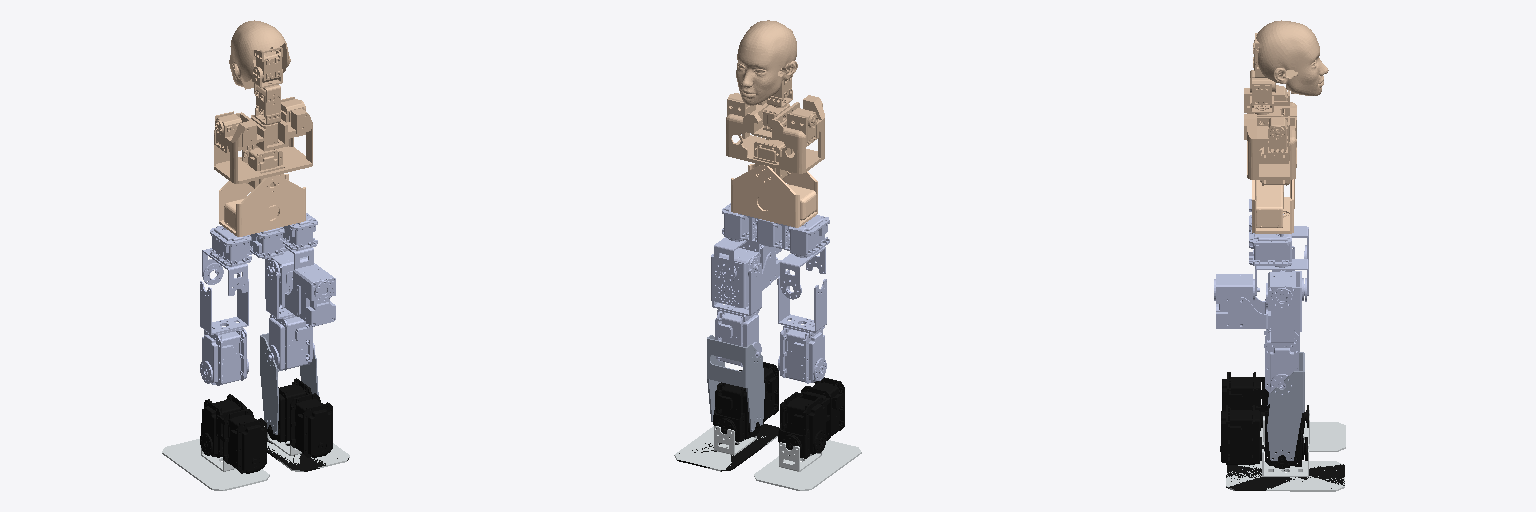
The robot description file, URDF, robot "ros18":
<?xml version="1.0" encoding="utf-8"?>
<!-- This URDF was automatically created by SolidWorks to URDF Exporter! Originally created by [author] ([email redacted]) 
     Commit Version: 1.6.0-4-g7f85cfe  Build Version: 1.6.7995.38578
     For more information, please see http://wiki.ros.org/sw_urdf_exporter -->
<robot
  name="ros18">
  <link
    name="base_link">
    <inertial>
      <origin
        xyz="0.00012411 -0.011342 0.43473"
        rpy="0 0 0" />
      <mass
        value="0.22153" />
      <inertia
        ixx="0.0001019"
        ixy="6.9163E-08"
        ixz="-5.1407E-08"
        iyy="0.00017338"
        iyz="8.0451E-06"
        izz="0.00015892" />
    </inertial>
    <visual>
      <origin
        xyz="0 0 0"
        rpy="0 0 0" />
      <geometry>
        <mesh
          filename="package://ros18/meshes/base_link.STL" />
      </geometry>
      <material
        name="">
        <color
          rgba="0.88627 0.77647 0.67843 1" />
      </material>
    </visual>
    <collision>
      <origin
        xyz="0 0 0"
        rpy="0 0 0" />
      <geometry>
        <mesh
          filename="package://ros18/meshes/base_link.STL" />
      </geometry>
    </collision>
  </link>
  <link
    name="waist_link">
    <inertial>
      <origin
        xyz="0.0402135117595246 -0.00227355475099582 0.0289825682297939"
        rpy="0 0 0" />
      <mass
        value="0.253025215067274" />
      <inertia
        ixx="0.000207131359721091"
        ixy="1.33833804574094E-10"
        ixz="-1.37231708481392E-07"
        iyy="6.88385602261252E-05"
        iyz="-1.27099608046946E-07"
        izz="0.000198692839118258" />
    </inertial>
    <visual>
      <origin
        xyz="0 0 0"
        rpy="0 0 0" />
      <geometry>
        <mesh
          filename="package://ros18/meshes/waist_link.STL" />
      </geometry>
      <material
        name="">
        <color
          rgba="0.996078431372549 0.870588235294118 0.76078431372549 1" />
      </material>
    </visual>
    <collision>
      <origin
        xyz="0 0 0"
        rpy="0 0 0" />
      <geometry>
        <mesh
          filename="package://ros18/meshes/waist_link.STL" />
      </geometry>
    </collision>
  </link>
  <joint
    name="waist_joint_1"
    type="revolute">
    <origin
      xyz="3.0614E-05 0.016897 0.37241"
      rpy="1.5708 1.5708 0" />
    <parent
      link="base_link" />
    <child
      link="waist_link" />
    <axis
      xyz="0 0.00097878 -1" />
    <limit
      lower="-1.308996938"
      upper="0.55851"
      effort="3"
      velocity="3" />
  </joint>
  <link
    name="hip_link">
    <inertial>
      <origin
        xyz="0.0110096301285472 1.07762347962004E-05 0.0226635098061163"
        rpy="0 0 0" />
      <mass
        value="0.138823597375586" />
      <inertia
        ixx="2.38836273995558E-05"
        ixy="-1.41623475234827E-08"
        ixz="1.82744993681484E-07"
        iyy="3.83538977071312E-05"
        iyz="1.80110311578197E-10"
        izz="3.15172006085393E-05" />
    </inertial>
    <visual>
      <origin
        xyz="0 0 0"
        rpy="0 0 0" />
      <geometry>
        <mesh
          filename="package://ros18/meshes/hip_link.STL" />
      </geometry>
      <material
        name="">
        <color
          rgba="0.792156862745098 0.819607843137255 0.933333333333333 1" />
      </material>
    </visual>
    <collision>
      <origin
        xyz="0 0 0"
        rpy="0 0 0" />
      <geometry>
        <mesh
          filename="package://ros18/meshes/hip_link.STL" />
      </geometry>
    </collision>
  </link>
  <joint
    name="hip_joint_2"
    type="revolute">
    <origin
      xyz="0.05515 -1.4533E-05 0.01485"
      rpy="-1.5703 -1.5708 -1.5713" />
    <parent
      link="waist_link" />
    <child
      link="hip_link" />
    <axis
      xyz="0 0 1" />
    <limit
      lower="-1.308996938"
      upper="0.5236"
      effort="3"
      velocity="3" />
  </joint>
  <link
    name="hip_right_link">
    <inertial>
      <origin
        xyz="-0.00422614947955779 1.30363239334019E-05 0.0101024474395421"
        rpy="0 0 0" />
      <mass
        value="0.00819925239367431" />
      <inertia
        ixx="1.32821149148133E-06"
        ixy="-2.10863542164035E-14"
        ixz="-1.29538092740862E-11"
        iyy="4.79909587455136E-06"
        iyz="3.91751811825621E-12"
        izz="4.48167530300692E-06" />
    </inertial>
    <visual>
      <origin
        xyz="0 0 0"
        rpy="0 0 0" />
      <geometry>
        <mesh
          filename="package://ros18/meshes/hip_right_link.STL" />
      </geometry>
      <material
        name="">
        <color
          rgba="0.792156862745098 0.819607843137255 0.933333333333333 1" />
      </material>
    </visual>
    <collision>
      <origin
        xyz="0 0 0"
        rpy="0 0 0" />
      <geometry>
        <mesh
          filename="package://ros18/meshes/hip_right_link.STL" />
      </geometry>
    </collision>
  </link>
  <joint
    name="hip_right_joint_4"
    type="revolute">
    <origin
      xyz="4.469E-05 -0.045659 0.0452"
      rpy="0 0 0.00097878" />
    <parent
      link="hip_link" />
    <child
      link="hip_right_link" />
    <axis
      xyz="0 0 1" />
    <limit
      lower="-1.151917305"
      upper="0.34907"
      effort="3"
      velocity="3" />
  </joint>
  <link
    name="hip2_right_link">
    <inertial>
      <origin
        xyz="-0.0152802051528607 0.000300443248466842 -0.0023114774439314"
        rpy="0 0 0" />
      <mass
        value="0.190491121315995" />
      <inertia
        ixx="4.96584513485555E-05"
        ixy="-1.61906609668238E-07"
        ixz="1.96075652820577E-07"
        iyy="7.60017328225244E-05"
        iyz="4.25333788432787E-09"
        izz="8.03503917179731E-05" />
    </inertial>
    <visual>
      <origin
        xyz="0 0 0"
        rpy="0 0 0" />
      <geometry>
        <mesh
          filename="package://ros18/meshes/hip2_right_link.STL" />
      </geometry>
      <material
        name="">
        <color
          rgba="0.792156862745098 0.819607843137255 0.933333333333333 1" />
      </material>
    </visual>
    <collision>
      <origin
        xyz="0 0 0"
        rpy="0 0 0" />
      <geometry>
        <mesh
          filename="package://ros18/meshes/hip2_right_link.STL" />
      </geometry>
    </collision>
  </link>
  <joint
    name="hip2_right_joint_8"
    type="revolute">
    <origin
      xyz="0.025902 1.4356E-05 0.0319"
      rpy="0.00097878 1.5708 0" />
    <parent
      link="hip_right_link" />
    <child
      link="hip2_right_link" />
    <axis
      xyz="0 0.00097878 1" />
    <limit
      lower="-0.86394"
      upper="1.4312"
      effort="10"
      velocity="3" />
  </joint>
  <link
    name="knee_right_link">
    <inertial>
      <origin
        xyz="-0.0913090349122436 2.80103607659399E-05 0.0296791212758651"
        rpy="0 0 0" />
      <mass
        value="0.0990788181729648" />
      <inertia
        ixx="2.89113990326741E-05"
        ixy="7.60262641748883E-09"
        ixz="-1.06282733195236E-06"
        iyy="4.93830312858525E-05"
        iyz="2.31023931628491E-09"
        izz="3.6564094559343E-05" />
    </inertial>
    <visual>
      <origin
        xyz="0 0 0"
        rpy="0 0 0" />
      <geometry>
        <mesh
          filename="package://ros18/meshes/knee_right_link.STL" />
      </geometry>
      <material
        name="">
        <color
          rgba="0.792156862745098 0.819607843137255 0.933333333333333 1" />
      </material>
    </visual>
    <collision>
      <origin
        xyz="0 0 0"
        rpy="0 0 0" />
      <geometry>
        <mesh
          filename="package://ros18/meshes/knee_right_link.STL" />
      </geometry>
    </collision>
  </link>
  <joint
    name="knee_right_joint_6"
    type="revolute">
    <origin
      xyz="0 0.029774 -0.026449"
      rpy="1.5698 0 0" />
    <parent
      link="hip2_right_link" />
    <child
      link="knee_right_link" />
    <axis
      xyz="0 0 1" />
    <limit
      lower="-0.40143"
      upper="0.29671"
      effort="10"
      velocity="3" />
  </joint>
  <link
    name="knee2_right_link">
    <inertial>
      <origin
        xyz="0.00804899987914626 -0.0336820805195894 0.0600831335075141"
        rpy="0 0 0" />
      <mass
        value="0.0193582268613659" />
      <inertia
        ixx="3.00376034908173E-05"
        ixy="-4.16144017849549E-06"
        ixz="-4.46081960737597E-20"
        iyy="1.54337706515249E-05"
        iyz="-1.37972098057233E-19"
        izz="2.14370365193726E-05" />
    </inertial>
    <visual>
      <origin
        xyz="0 0 0"
        rpy="0 0 0" />
      <geometry>
        <mesh
          filename="package://ros18/meshes/knee2_right_link.STL" />
      </geometry>
      <material
        name="">
        <color
          rgba="0.666666666666667 0.698039215686274 0.768627450980392 1" />
      </material>
    </visual>
    <collision>
      <origin
        xyz="0 0 0"
        rpy="0 0 0" />
      <geometry>
        <mesh
          filename="package://ros18/meshes/knee2_right_link.STL" />
      </geometry>
    </collision>
  </link>
  <joint
    name="knee2_right_joint_10"
    type="revolute">
    <origin
      xyz="-0.11283 -0.00128 -0.030619"
      rpy="0 0 -1.5708" />
    <parent
      link="knee_right_link" />
    <child
      link="knee2_right_link" />
    <axis
      xyz="0 0 -1" />
    <limit
      lower="-1.457349924"
      upper="1.501"
      effort="10"
      velocity="3" />
  </joint>
  <link
    name="angkle_right_link">
    <inertial>
      <origin
        xyz="-0.00378323508730809 -0.0163203907687403 0.0331964377564581"
        rpy="0 0 0" />
      <mass
        value="0.237978786468489" />
      <inertia
        ixx="0.000171283046245281"
        ixy="-1.07371172497559E-06"
        ixz="1.06118699691654E-06"
        iyy="0.000105820220556833"
        iyz="-8.743011105321E-14"
        izz="0.000168335248057341" />
    </inertial>
    <visual>
      <origin
        xyz="0 0 0"
        rpy="0 0 0" />
      <geometry>
        <mesh
          filename="package://ros18/meshes/angkle_right_link.STL" />
      </geometry>
      <material
        name="">
        <color
          rgba="0.109803921568627 0.109803921568627 0.109803921568627 1" />
      </material>
    </visual>
    <collision>
      <origin
        xyz="0 0 0"
        rpy="0 0 0" />
      <geometry>
        <mesh
          filename="package://ros18/meshes/angkle_right_link.STL" />
      </geometry>
    </collision>
  </link>
  <joint
    name="angkle_right_joint_12"
    type="revolute">
    <origin
      xyz="-0.00128 -0.095 0.029519"
      rpy="0 0 -1.5708" />
    <parent
      link="knee2_right_link" />
    <child
      link="angkle_right_link" />
    <axis
      xyz="0 0 -1" />
    <limit
      lower="-1.204277183"
      upper="1.85"
      effort="10"
      velocity="3" />
  </joint>
  <link
    name="foot_right_link">
    <inertial>
      <origin
        xyz="0.0292638788164741 0.00786355244260534 -0.0229100000022202"
        rpy="0 0 0" />
      <mass
        value="0.0728910331402475" />
      <inertia
        ixx="0.000132875190059068"
        ixy="1.59693308576193E-08"
        ixz="8.22982080440761E-16"
        iyy="0.000102630010024421"
        iyz="-2.71240058636954E-14"
        izz="3.33197131957042E-05" />
    </inertial>
    <visual>
      <origin
        xyz="0 0 0"
        rpy="0 0 0" />
      <geometry>
        <mesh
          filename="package://ros18/meshes/foot_right_link.STL" />
      </geometry>
      <material
        name="">
        <color
          rgba="0.898039215686275 0.917647058823529 0.929411764705882 1" />
      </material>
    </visual>
    <collision>
      <origin
        xyz="0 0 0"
        rpy="0 0 0" />
      <geometry>
        <mesh
          filename="package://ros18/meshes/foot_right_link.STL" />
      </geometry>
    </collision>
  </link>
  <joint
    name="foot_right_14"
    type="revolute">
    <origin
      xyz="0 -0.0188 0.0308"
      rpy="1.5708 0.00052794 0" />
    <parent
      link="angkle_right_link" />
    <child
      link="foot_right_link" />
    <axis
      xyz="0 0 -1" />
    <limit
      lower="-0.6981317"
      upper="1.7453"
      effort="10"
      velocity="3" />
  </joint>
  <link
    name="hip_left_link">
    <inertial>
      <origin
        xyz="-0.0042262 3.6393E-06 0.010102"
        rpy="0 0 0" />
      <mass
        value="0.0081993" />
      <inertia
        ixx="1.3282E-06"
        ixy="-3.3374E-09"
        ixz="-1.4719E-11"
        iyy="4.7991E-06"
        iyz="1.7148E-10"
        izz="4.4817E-06" />
    </inertial>
    <visual>
      <origin
        xyz="0 0 0"
        rpy="0 0 0" />
      <geometry>
        <mesh
          filename="package://ros18/meshes/hip_left_link.STL" />
      </geometry>
      <material
        name="">
        <color
          rgba="0.79216 0.81961 0.93333 1" />
      </material>
    </visual>
    <collision>
      <origin
        xyz="0 0 0"
        rpy="0 0 0" />
      <geometry>
        <mesh
          filename="package://ros18/meshes/hip_left_link.STL" />
      </geometry>
    </collision>
  </link>
  <joint
    name="hip_left_joint_3"
    type="revolute">
    <origin
      xyz="-4.469E-05 0.045659 0.0452"
      rpy="-0.00052794 0 1.7254E-05" />
    <parent
      link="hip_link" />
    <child
      link="hip_left_link" />
    <axis
      xyz="0 -0.00052794 1" />
    <limit
      lower="-1.439896631"
      upper="0.76794"
      effort="3"
      velocity="3" />
  </joint>
  <link
    name="hip2_left_link">
    <inertial>
      <origin
        xyz="0.0152802051527449 -0.00030496023944946 0.00231049476447931"
        rpy="0 0 0" />
      <mass
        value="0.190491121319325" />
      <inertia
        ixx="4.9658451349081E-05"
        ixy="-1.61860331826733E-07"
        ixz="1.9575862809758E-07"
        iyy="7.60017328226701E-05"
        iyz="-4.25333764200963E-09"
        izz="8.03503917184427E-05" />
    </inertial>
    <visual>
      <origin
        xyz="0 0 0"
        rpy="0 0 0" />
      <geometry>
        <mesh
          filename="package://ros18/meshes/hip2_left_link.STL" />
      </geometry>
      <material
        name="">
        <color
          rgba="0.792156862745098 0.819607843137255 0.933333333333333 1" />
      </material>
    </visual>
    <collision>
      <origin
        xyz="0 0 0"
        rpy="0 0 0" />
      <geometry>
        <mesh
          filename="package://ros18/meshes/hip2_left_link.STL" />
      </geometry>
    </collision>
  </link>
  <joint
    name="hip2_left_joint_7"
    type="revolute">
    <origin
      xyz="0.024622 2.1189E-05 0.0319"
      rpy="1.5708 -1.5703 -1.5708" />
    <parent
      link="hip_left_link" />
    <child
      link="hip2_left_link" />
    <axis
      xyz="0 0.00097878 -1" />
    <limit
      lower="-0.863937979"
      upper="0.87266"
      effort="10"
      velocity="3" />
  </joint>
  <link
    name="knee_left_link">
    <inertial>
      <origin
        xyz="-0.0913087537345422 -3.43481037914928E-05 0.0296799849587481"
        rpy="0 0 0" />
      <mass
        value="0.0990788181435478" />
      <inertia
        ixx="2.89113788894231E-05"
        ixy="-1.08850673646454E-08"
        ixz="-1.06275463178194E-06"
        iyy="4.93830312726799E-05"
        iyz="2.31035274066287E-09"
        izz="3.65641146855118E-05" />
    </inertial>
    <visual>
      <origin
        xyz="0 0 0"
        rpy="0 0 0" />
      <geometry>
        <mesh
          filename="package://ros18/meshes/knee_left_link.STL" />
      </geometry>
      <material
        name="">
        <color
          rgba="0.792156862745098 0.819607843137255 0.933333333333333 1" />
      </material>
    </visual>
    <collision>
      <origin
        xyz="0 0 0"
        rpy="0 0 0" />
      <geometry>
        <mesh
          filename="package://ros18/meshes/knee_left_link.STL" />
      </geometry>
    </collision>
  </link>
  <joint
    name="knee_left_joint_5"
    type="revolute">
    <origin
      xyz="0 -0.029826 0.026391"
      rpy="1.5698 0 3.1416" />
    <parent
      link="hip2_left_link" />
    <child
      link="knee_left_link" />
    <axis
      xyz="0 0 1" />
    <limit
      lower="-1.378810108"
      upper="2.234"
      effort="10"
      velocity="3" />
  </joint>
  <link
    name="knee2_left_link">
    <inertial>
      <origin
        xyz="-0.0336820845821866 0.0106089827811632 0.0600831335075176"
        rpy="0 0 0" />
      <mass
        value="0.0193582268613658" />
      <inertia
        ixx="1.54337748764643E-05"
        ixy="-4.16144759182268E-06"
        ixz="1.84646565056537E-19"
        iyy="3.00375992658779E-05"
        iyz="-3.89420088777714E-20"
        izz="2.14370365193726E-05" />
    </inertial>
    <visual>
      <origin
        xyz="0 0 0"
        rpy="0 0 0" />
      <geometry>
        <mesh
          filename="package://ros18/meshes/knee2_left_link.STL" />
      </geometry>
      <material
        name="">
        <color
          rgba="0.666666666666667 0.698039215686274 0.768627450980392 1" />
      </material>
    </visual>
    <collision>
      <origin
        xyz="0 0 0"
        rpy="0 0 0" />
      <geometry>
        <mesh
          filename="package://ros18/meshes/knee2_left_link.STL" />
      </geometry>
    </collision>
  </link>
  <joint
    name="knee2_left_joint_9"
    type="revolute">
    <origin
      xyz="-0.11283 -0.00128 -0.030617"
      rpy="0 0 0" />
    <parent
      link="knee_left_link" />
    <child
      link="knee2_left_link" />
    <axis
      xyz="0 0 -1" />
    <limit
      lower="-0.785398163"
      upper="0.19199"
      effort="10"
      velocity="3" />
  </joint>
  <link
    name="angkle_left_link">
    <inertial>
      <origin
        xyz="-0.0152939106906944 0.0229335658249762 0.0307868819473238"
        rpy="0 0 0" />
      <mass
        value="0.181635293744239" />
      <inertia
        ixx="4.69097394400458E-05"
        ixy="1.07043030324012E-06"
        ixz="1.06446704295086E-06"
        iyy="7.52709488472469E-05"
        iyz="-1.07401465530275E-13"
        izz="7.47612900454884E-05" />
    </inertial>
    <visual>
      <origin
        xyz="0 0 0"
        rpy="0 0 0" />
      <geometry>
        <mesh
          filename="package://ros18/meshes/angkle_left_link.STL" />
      </geometry>
      <material
        name="">
        <color
          rgba="0.109803921568627 0.109803921568627 0.109803921568627 1" />
      </material>
    </visual>
    <collision>
      <origin
        xyz="0 0 0"
        rpy="0 0 0" />
      <geometry>
        <mesh
          filename="package://ros18/meshes/angkle_left_link.STL" />
      </geometry>
    </collision>
  </link>
  <joint
    name="angkle_left_joint_11"
    type="revolute">
    <origin
      xyz="-0.095 0.00128 0.029519"
      rpy="0 0 3.1416" />
    <parent
      link="knee2_left_link" />
    <child
      link="angkle_left_link" />
    <axis
      xyz="0 0 -1" />
    <limit
      lower="-0.654498469"
      upper="0.7854"
      effort="10"
      velocity="3" />
  </joint>
  <link
    name="foot_left_link">
    <inertial>
      <origin
        xyz="0.0292721655089281 -0.0078326887302872 -0.0229100000022184"
        rpy="0 0 0" />
      <mass
        value="0.0728910331402474" />
      <inertia
        ixx="0.000132875190059068"
        ixy="1.59693308579579E-08"
        ixz="8.23931838759168E-16"
        iyy="0.000102630010024421"
        iyz="-2.71237864457661E-14"
        izz="3.33197131957041E-05" />
    </inertial>
    <visual>
      <origin
        xyz="0 0 0"
        rpy="0 0 0" />
      <geometry>
        <mesh
          filename="package://ros18/meshes/foot_left_link.STL" />
      </geometry>
      <material
        name="">
        <color
          rgba="0.898039215686275 0.917647058823529 0.929411764705882 1" />
      </material>
    </visual>
    <collision>
      <origin
        xyz="0 0 0"
        rpy="0 0 0" />
      <geometry>
        <mesh
          filename="package://ros18/meshes/foot_left_link.STL" />
      </geometry>
    </collision>
  </link>
  <joint
    name="foot_left_joint_13"
    type="revolute">
    <origin
      xyz="0 0.0188 0.0308"
      rpy="-1.5708 -0.00052794 0" />
    <parent
      link="angkle_left_link" />
    <child
      link="foot_left_link" />
    <axis
      xyz="0 0 -1" />
    <limit
      lower="-0.6981317"
      upper="1.7104"
      effort="10"
      velocity="3" />
  </joint>
</robot>

--- Render facts (derived) ---
3 views of the same robot in one strip: view 1: azimuth 30°, elevation 25°; view 2: azimuth 150°, elevation 25°; view 3: azimuth 270°, elevation 25° (orthographic).
Robot: ros18 — 15 links, 14 joints (14 revolute); root link base_link; default pose: every joint at zero.
Links seen in each view (by area): view 1: base_link, waist_link, angkle_right_link, angkle_left_link, knee_left_link, hip2_right_link, hip_link, knee_right_link, foot_left_link, knee2_right_link, hip_left_link, foot_right_link; view 2: base_link, waist_link, angkle_left_link, knee_left_link, angkle_right_link, foot_left_link, hip_link, knee2_right_link, hip2_right_link, knee_right_link, foot_right_link, hip_left_link (+1 smaller); view 3: base_link, angkle_right_link, hip2_right_link, knee2_right_link, knee_right_link, waist_link, foot_right_link, angkle_left_link, hip_link, foot_left_link.
Link boxes in pixels (x1,y1,x2,y2): base_link: (214, 20, 312, 188); waist_link: (219, 174, 305, 236); angkle_right_link: (267, 378, 348, 471); angkle_left_link: (200, 394, 266, 473); knee_left_link: (200, 273, 248, 385); hip2_right_link: (265, 248, 335, 326); hip_link: (210, 213, 317, 266); knee_right_link: (266, 263, 314, 370); foot_left_link: (162, 439, 269, 490); knee2_right_link: (260, 333, 318, 434); hip_left_link: (202, 248, 247, 295); foot_right_link: (264, 426, 349, 471); base_link: (726, 20, 824, 178); waist_link: (731, 164, 817, 227); angkle_left_link: (778, 377, 844, 458); knee_left_link: (777, 270, 826, 383); angkle_right_link: (677, 362, 778, 471); foot_left_link: (754, 440, 861, 490); hip_link: (722, 203, 829, 256); knee2_right_link: (707, 335, 764, 431); hip2_right_link: (711, 244, 781, 307); knee_right_link: (712, 263, 761, 366); foot_right_link: (674, 426, 777, 471); hip_left_link: (780, 247, 825, 299); base_link: (1244, 20, 1328, 185); angkle_right_link: (1220, 404, 1344, 490); hip2_right_link: (1214, 271, 1303, 331); knee2_right_link: (1267, 352, 1304, 460); knee_right_link: (1264, 297, 1298, 394); waist_link: (1252, 179, 1294, 233); foot_right_link: (1226, 442, 1344, 491); angkle_left_link: (1222, 372, 1308, 433); hip_link: (1249, 199, 1291, 265); foot_left_link: (1260, 410, 1345, 451).
Size in the robot's own frame: 0.1905 by 0.1563 by 0.5681 metres.
Meshes: 15 distinct files referenced, 13 mesh visuals loaded (13 binary STL); not drawn: 2 (reference not matched to a file when rendering).
